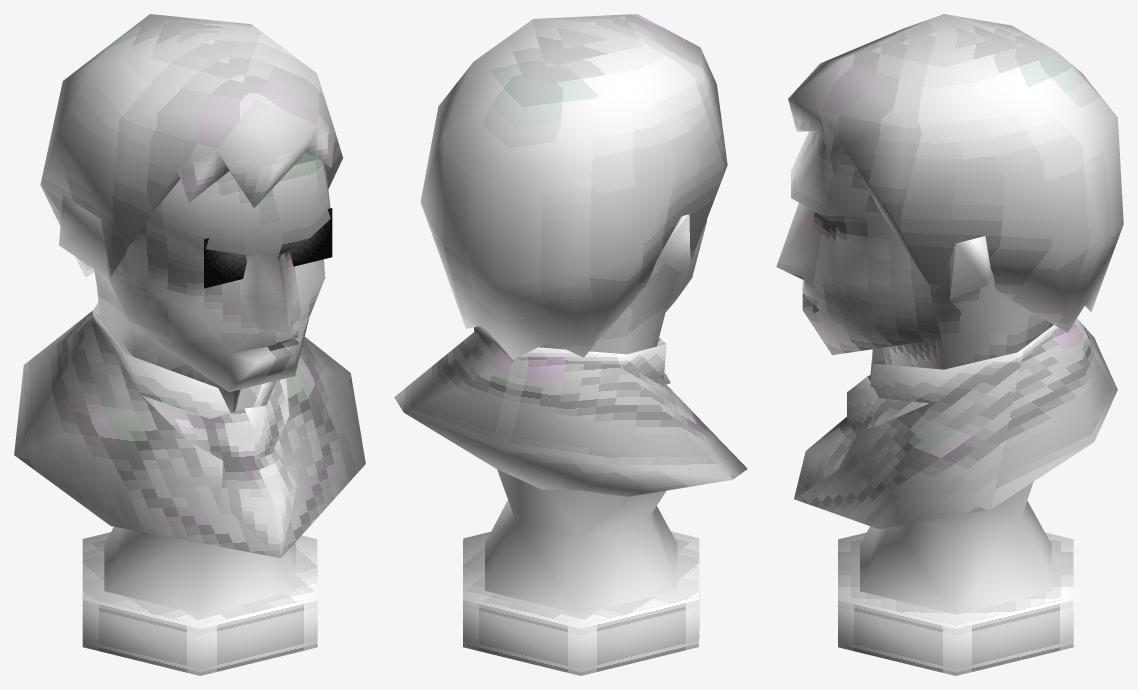
Rendered from int_hor_kyouzou.dae.
The picture shows the model from 3 angles, left to right: view 1: azimuth 30°, elevation 25°; view 2: azimuth 150°, elevation 25°; view 3: azimuth 270°, elevation 25°; orthographic projection.
Parts seen in each view (by area): view 1: int_hor_kyouzou; view 2: int_hor_kyouzou; view 3: int_hor_kyouzou.
Boxes of the visible parts, x1=… form: int_hor_kyouzou: x1=14, y1=14, x2=365, y2=675; int_hor_kyouzou: x1=394, y1=14, x2=747, y2=675; int_hor_kyouzou: x1=776, y1=14, x2=1123, y2=675.
Size of the model in its own units: 22.46 by 37.4 by 20.08.
Materials: 2 (2 with a texture image).
